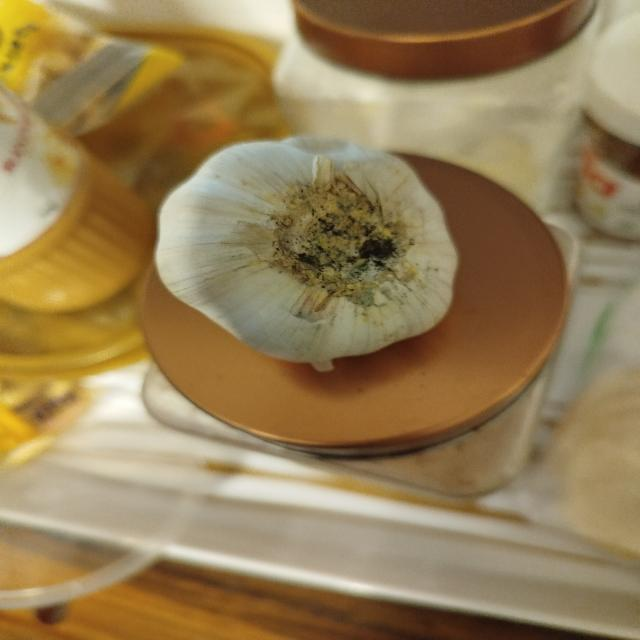garlic: (153, 134, 460, 373)
